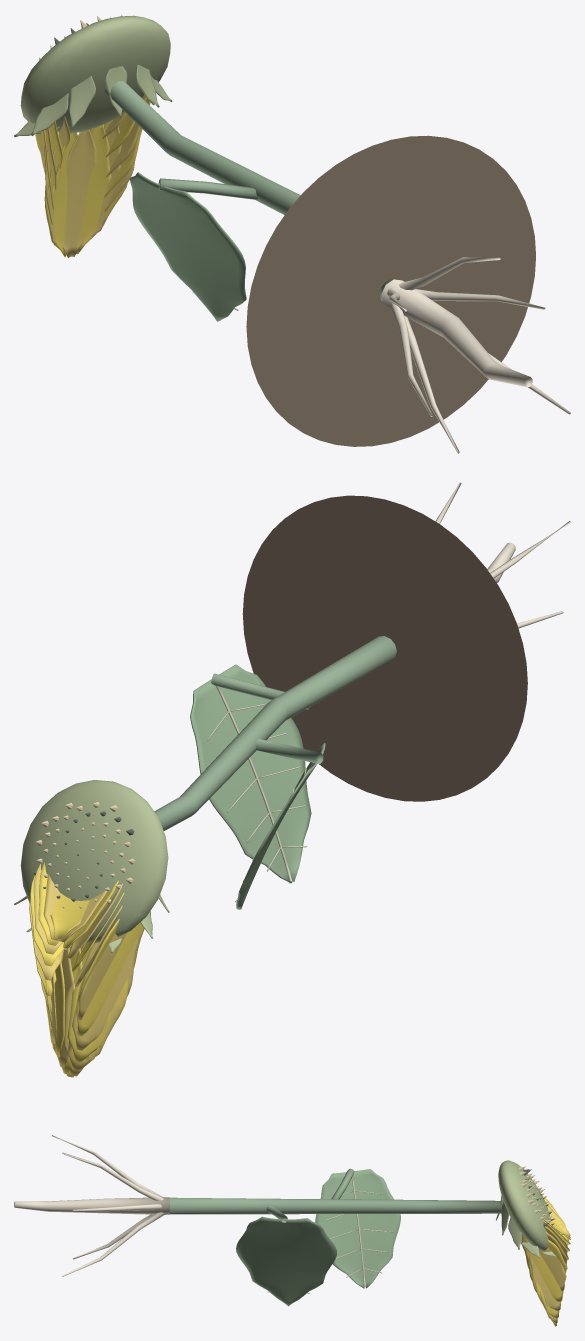
Rendered from sunflower.glb.
3 renders of one model, top to bottom at view 1: azimuth 30°, elevation 25°; view 2: azimuth 150°, elevation 25°; view 3: azimuth 270°, elevation 25°, orthographic. The views are drawn at different scales.
Parts seen in each view (by area): view 1: Part_Soil__soil, Part_Bract__recept, Part_Leaf__blade1, Part_Stem__stem, Part_Taproot__taproot, Part_RayFloret__ray13, Part_RayFloret__ray12, Part_RayFloret__ray14, Part_Petiole__pet1, Part_Roots__rt4, Part_Roots__rt0, Part_Roots__rt3 (+4 smaller); view 2: Part_Soil__soil, Part_Bract__recept, Part_Leaf__blade0, Part_Stem__stem, Part_RayFloret__ray18, Part_RayFloret__ray17, Part_Leaf__blade1, Part_RayFloret__ray0, Part_RayFloret__ray16, Part_RayFloret__ray15, Part_RayFloret__ray19, Part_Petiole__pet0 (+2 smaller); view 3: Part_Leaf__blade0, Part_Leaf__blade1, Part_Stem__stem, Part_Bract__recept, Part_Taproot__taproot, Part_RayFloret__ray8, Part_RayFloret__ray7, Part_Roots__rt5, Part_Roots__rt1, Part_RayFloret__ray9, Part_Roots__rt0, Part_Roots__rt2 (+1 smaller).
Part boxes in pixels (left/top/right/bottom): Part_Soil__soil: left=246, top=135, right=535, bottom=446; Part_Bract__recept: left=20, top=15, right=170, bottom=133; Part_Leaf__blade1: left=130, top=172, right=246, bottom=321; Part_Stem__stem: left=104, top=81, right=398, bottom=300; Part_Taproot__taproot: left=381, top=279, right=532, bottom=387; Part_RayFloret__ray13: left=62, top=129, right=96, bottom=258; Part_RayFloret__ray12: left=71, top=124, right=111, bottom=254; Part_RayFloret__ray14: left=52, top=132, right=77, bottom=257; Part_Petiole__pet1: left=158, top=178, right=257, bottom=199; Part_Roots__rt4: left=404, top=316, right=459, bottom=453; Part_Roots__rt0: left=415, top=289, right=545, bottom=309; Part_Roots__rt3: left=390, top=303, right=432, bottom=416; Part_Soil__soil: left=242, top=495, right=527, bottom=801; Part_Bract__recept: left=20, top=780, right=168, bottom=943; Part_Leaf__blade0: left=190, top=664, right=311, bottom=883; Part_Stem__stem: left=154, top=636, right=396, bottom=830; Part_RayFloret__ray18: left=76, top=922, right=144, bottom=1036; Part_RayFloret__ray17: left=72, top=936, right=139, bottom=1050; Part_Leaf__blade1: left=236, top=743, right=325, bottom=909; Part_RayFloret__ray0: left=50, top=893, right=89, bottom=939; Part_RayFloret__ray16: left=67, top=978, right=127, bottom=1062; Part_RayFloret__ray15: left=63, top=942, right=120, bottom=1071; Part_RayFloret__ray19: left=77, top=932, right=127, bottom=1020; Part_Petiole__pet0: left=211, top=673, right=310, bottom=709; Part_Leaf__blade0: left=236, top=1216, right=336, bottom=1306; Part_Leaf__blade1: left=315, top=1169, right=400, bottom=1288; Part_Stem__stem: left=170, top=1197, right=503, bottom=1214; Part_Bract__recept: left=498, top=1160, right=550, bottom=1250; Part_Taproot__taproot: left=14, top=1197, right=169, bottom=1214; Part_RayFloret__ray8: left=525, top=1238, right=564, bottom=1302; Part_RayFloret__ray7: left=521, top=1234, right=566, bottom=1291; Part_Roots__rt5: left=62, top=1212, right=165, bottom=1276; Part_Roots__rt1: left=62, top=1152, right=163, bottom=1200; Part_RayFloret__ray9: left=529, top=1257, right=563, bottom=1311; Part_Roots__rt0: left=72, top=1204, right=161, bottom=1211; Part_Roots__rt2: left=51, top=1135, right=163, bottom=1197.
Size of the model in its own units: 1.2 by 1.39 by 3.34.
